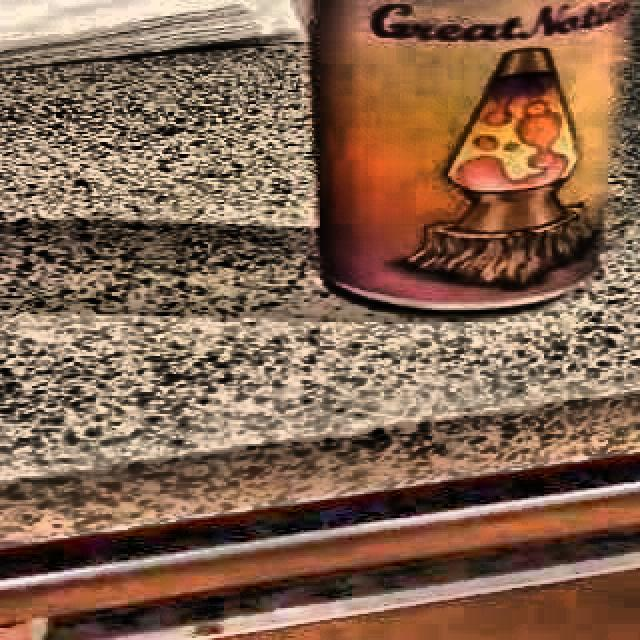metal: (290, 0, 640, 332)
